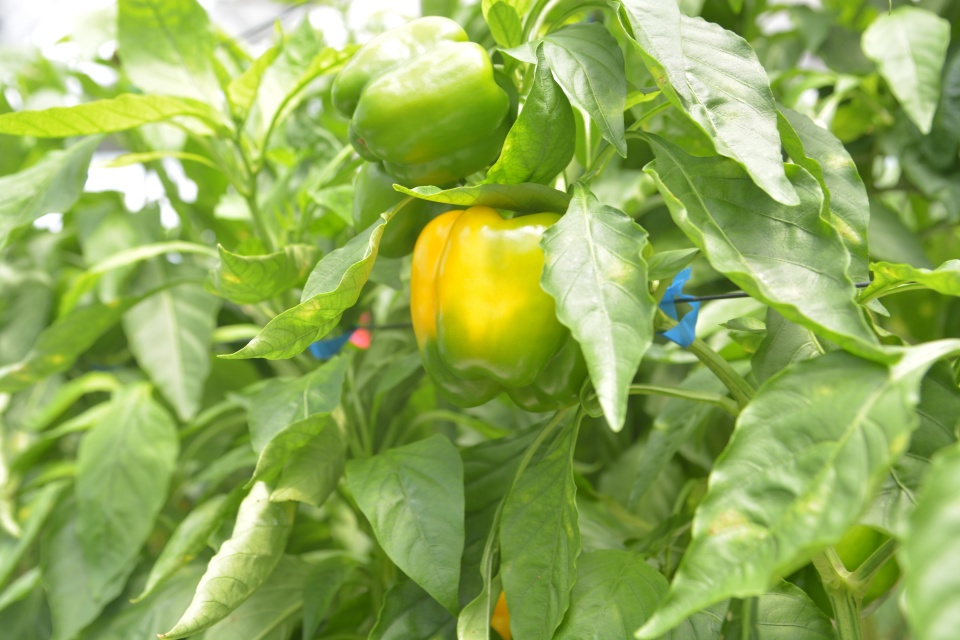fruit: (405, 205, 588, 416), (327, 15, 513, 189), (351, 158, 468, 260), (832, 520, 904, 608)
